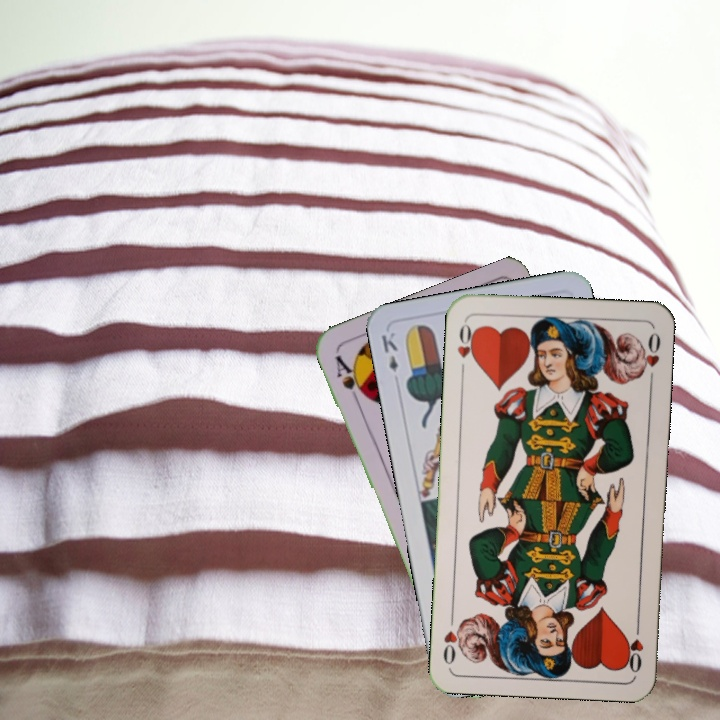EK: (377, 328, 401, 374)
HO: (453, 318, 479, 377), (622, 616, 646, 676)
SA: (331, 351, 369, 406)
